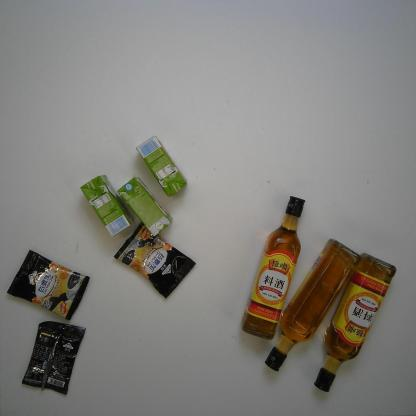Instant Drink: (112, 220, 198, 302), (3, 249, 90, 322), (19, 322, 87, 397)
Milk: (115, 176, 174, 240), (79, 174, 134, 238), (135, 134, 188, 198)
Seasoner: (260, 237, 363, 375), (310, 252, 400, 394), (237, 193, 307, 341)
